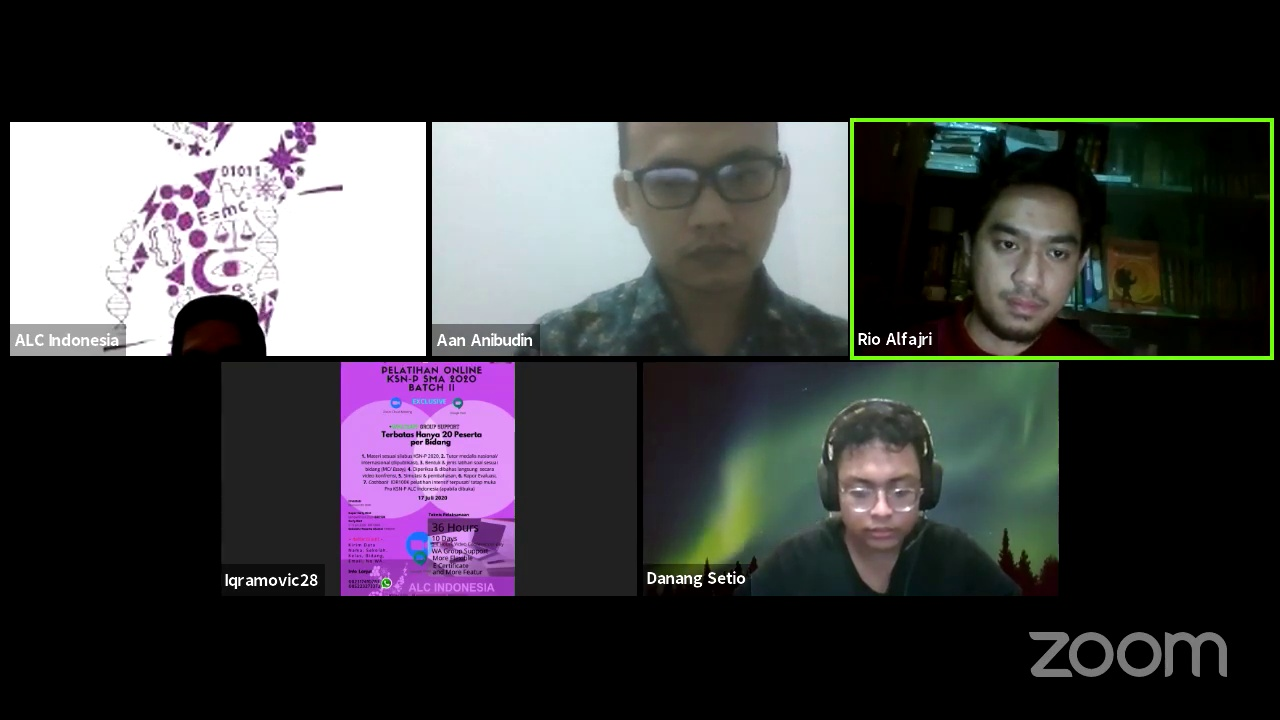Distracted: (810, 410, 948, 566)
Not Distracted: (620, 135, 804, 285), (956, 167, 1090, 339)
